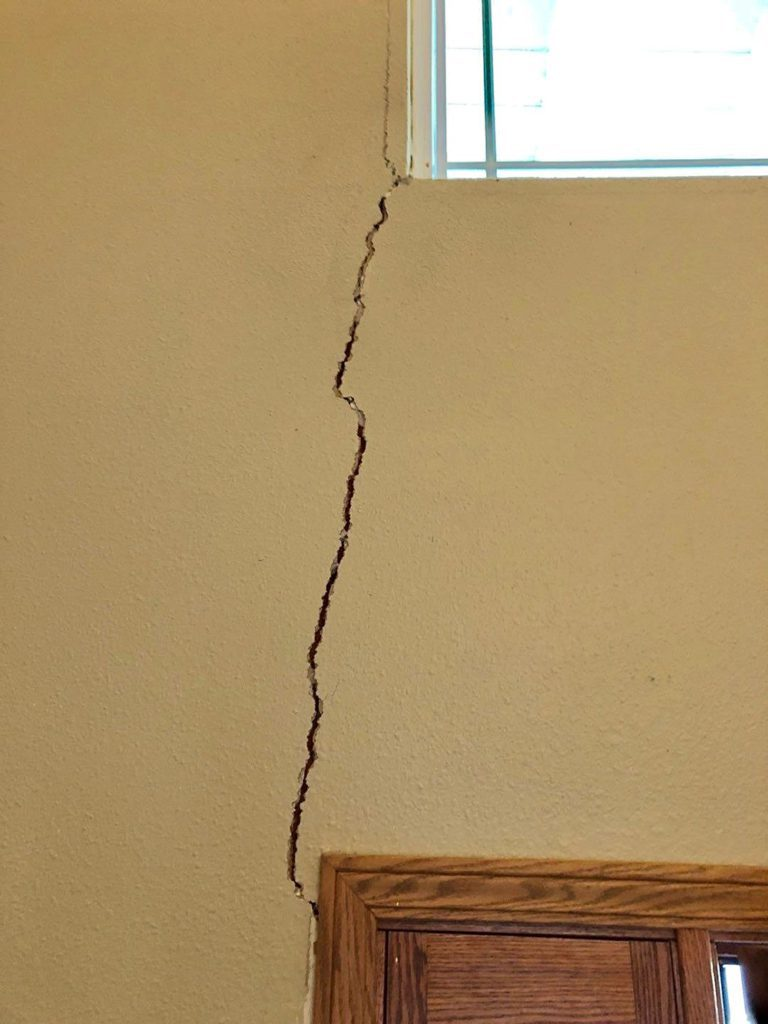crack: (279, 0, 408, 918)
